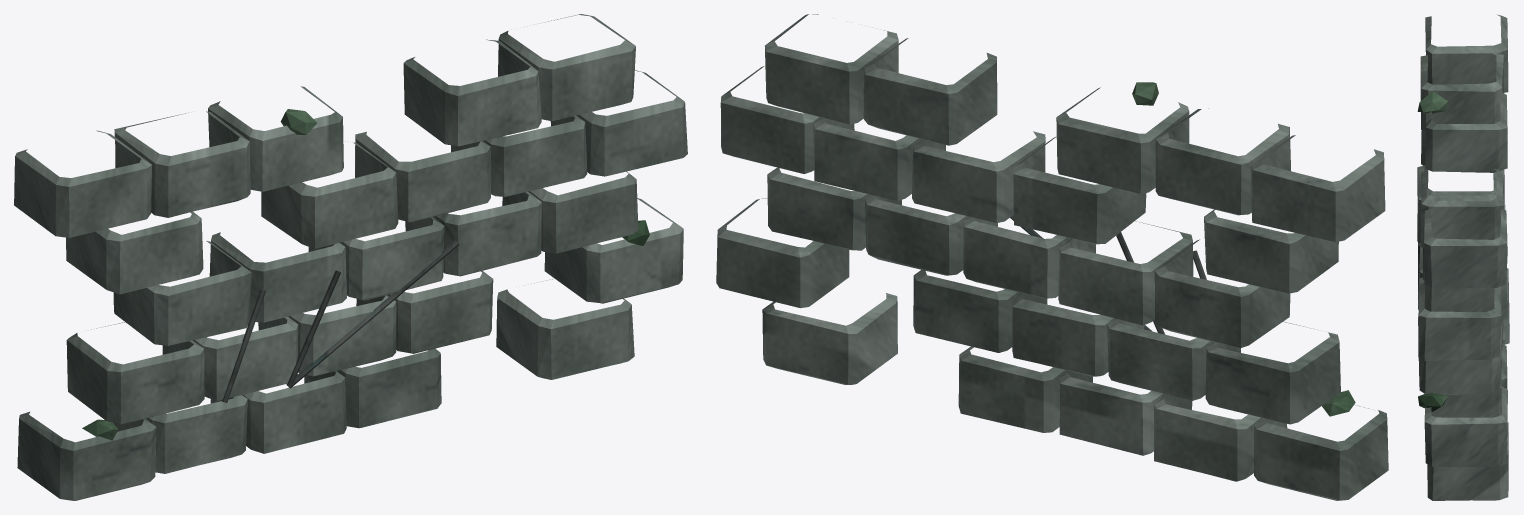
Rendered from 0333_wall_section_08.glb.
The picture shows the model from 3 angles, left to right: view 1: azimuth 30°, elevation 25°; view 2: azimuth 150°, elevation 25°; view 3: azimuth 270°, elevation 25°; orthographic projection. The views are drawn at different scales.
Visible parts, largest first — view 1: stone, iron, moss; view 2: stone, moss; view 3: stone, moss.
Part boxes in pixels (x1,y1,x2,y2): stone: [14, 14, 687, 500]; iron: [222, 240, 459, 402]; moss: [82, 109, 649, 440]; stone: [716, 14, 1388, 500]; moss: [1132, 82, 1355, 416]; stone: [1417, 14, 1509, 500]; moss: [1417, 91, 1447, 411].
Bounding box in the file's own units: 3.84 × 1.96 × 0.5996.
Materials: 3 (3 with a texture image).
